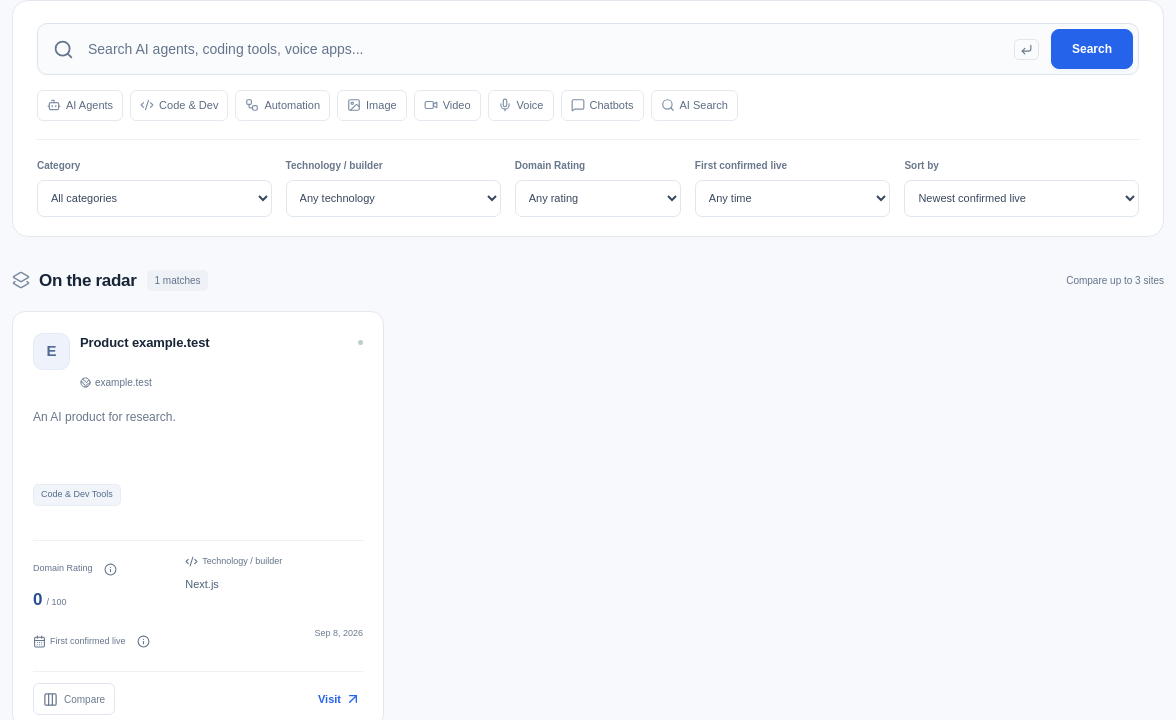
Test: discovery interactions › discards stale responses even if a fetch ignores cancellation
This screenshot has width=1176, height=720.
Click the button "AI Agents" at (80, 105), box 37,90 -> 123,120
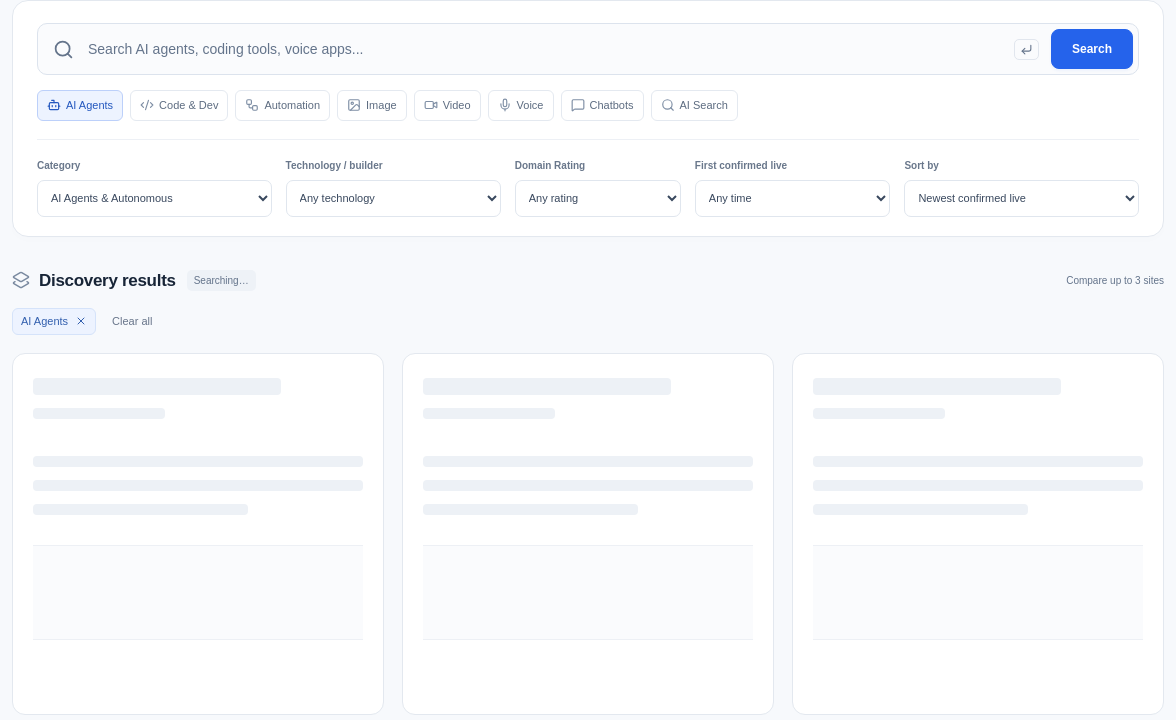
Click the button "Code & Dev" at (179, 105), box 130,90 -> 228,120
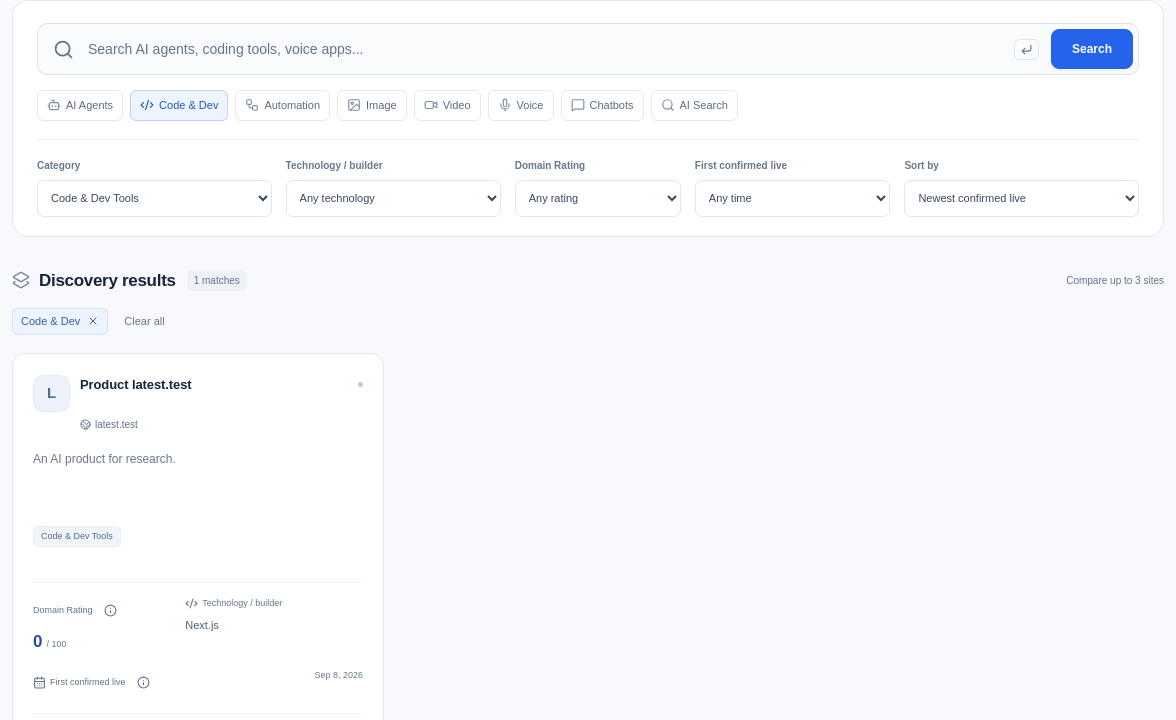
Result: the heading "Product latest.test" is shown at 80,376 -> 192,392
